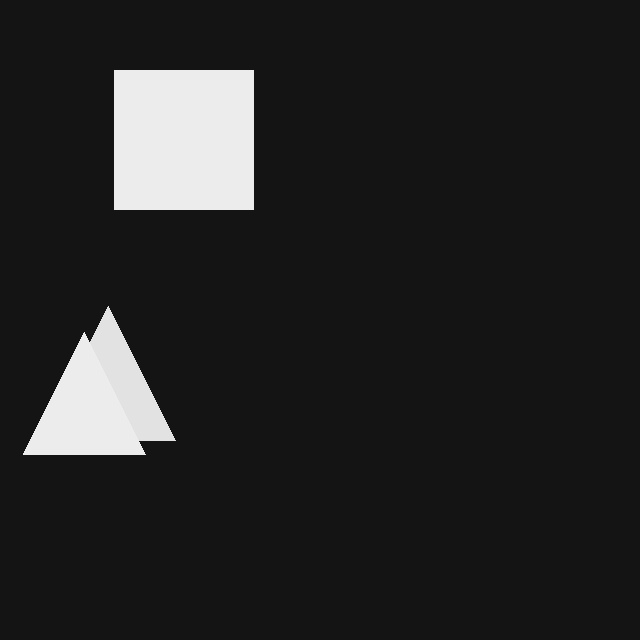square: (114, 70, 253, 209)
triangle: (41, 306, 175, 440), (23, 332, 145, 454)
